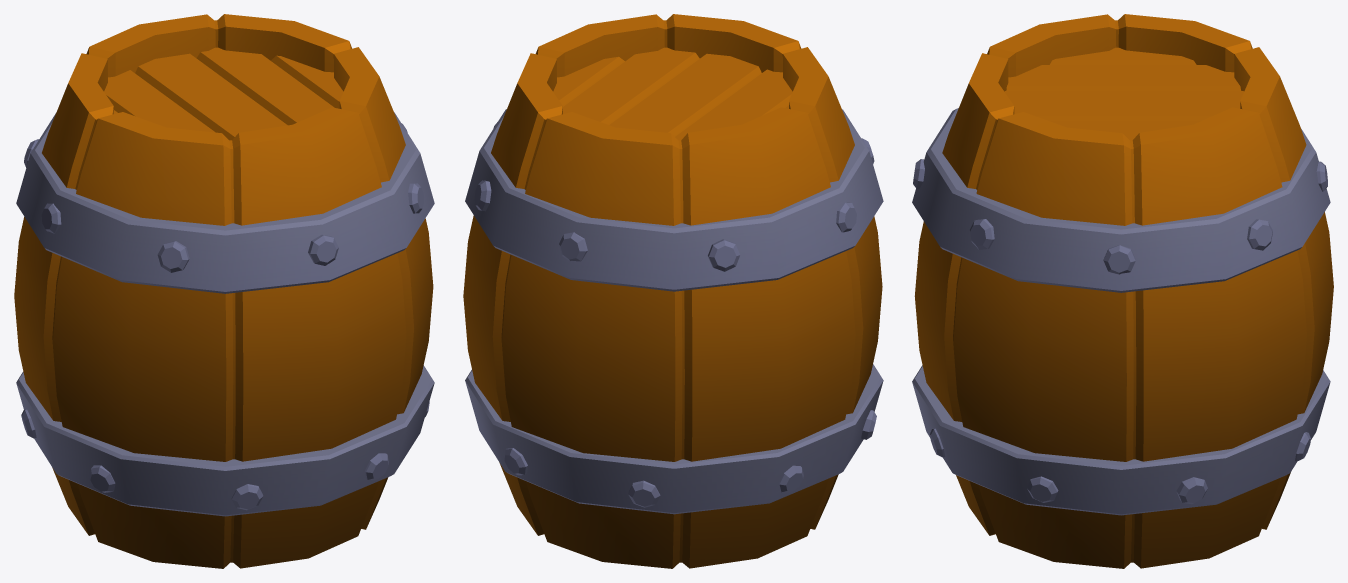
Rendered from Barrel_01.glb.
3 renders of one model, left to right at view 1: azimuth 30°, elevation 25°; view 2: azimuth 150°, elevation 25°; view 3: azimuth 270°, elevation 25°, orthographic.
Parts seen in each view (by area): view 1: Barrel_01; view 2: Barrel_01; view 3: Barrel_01.
Boxes of the visible parts, left/top/right/bottom form: Barrel_01: left=14, top=14, right=434, bottom=568; Barrel_01: left=463, top=14, right=883, bottom=568; Barrel_01: left=912, top=14, right=1333, bottom=568.
Size of the model in its own units: 0.5986 by 0.6677 by 0.6028.
Materials: 1 (1 with a texture image).
